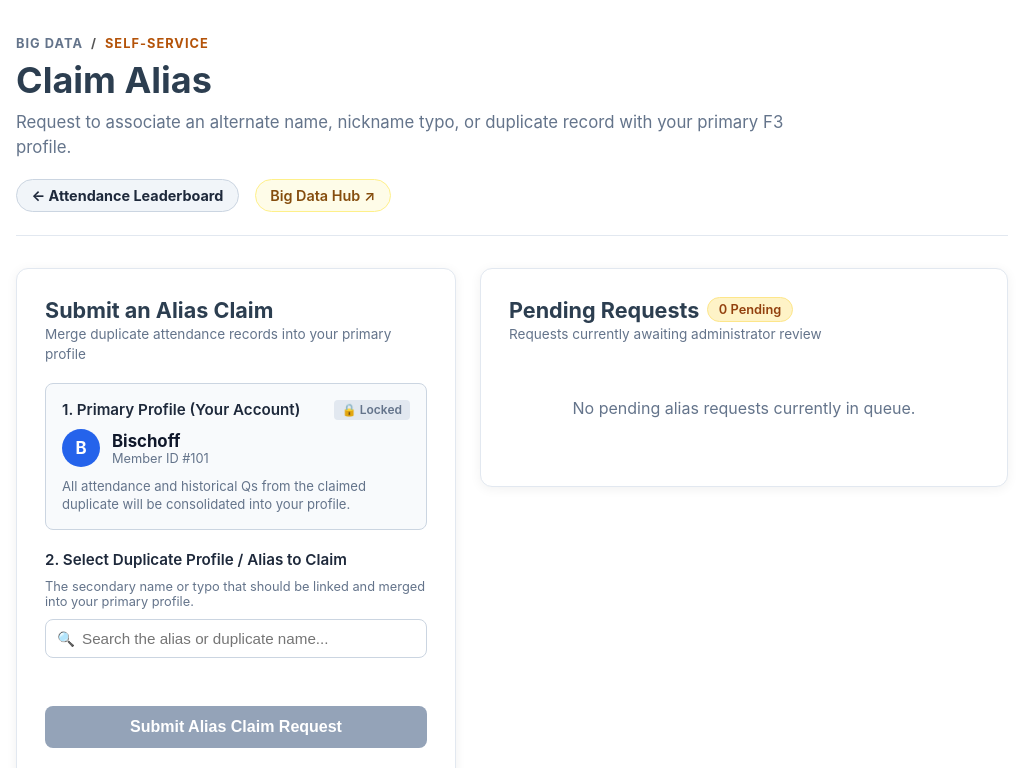
it: ClaimAlias Component › handles duplicate conflict error (409) from API
In the dropdown with placeholder "Search the alias or duplicate name...": (236, 638) [45,619,427,658], type "Bischoff_Old"
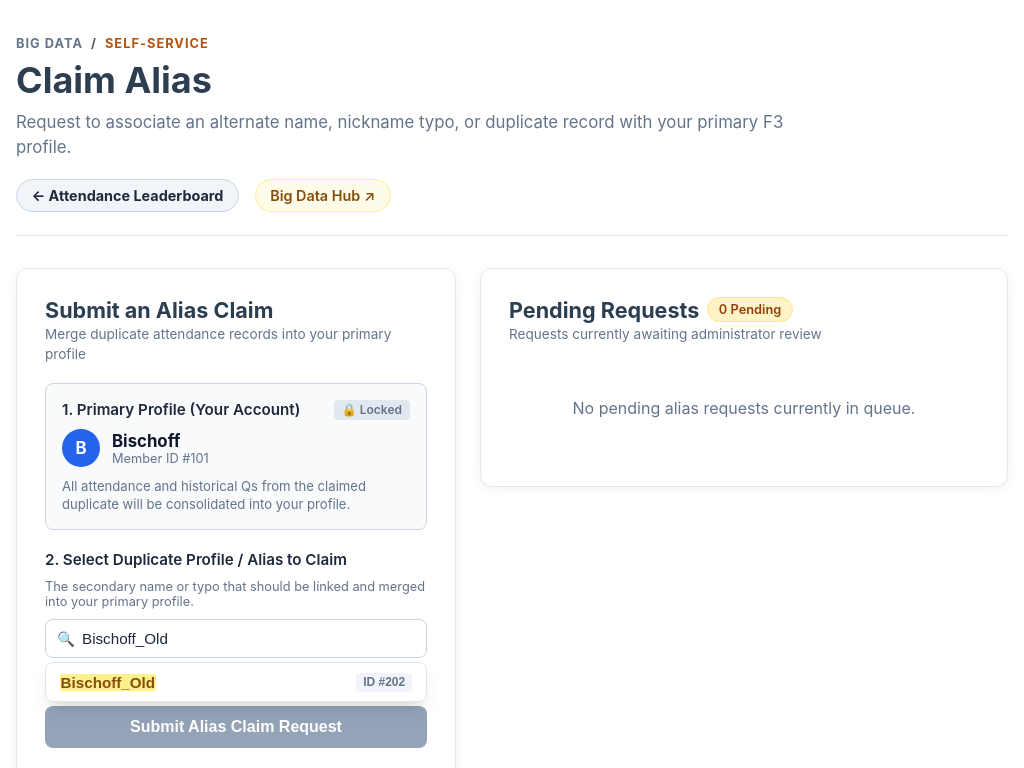
Expected: the option "Bischoff_Old ID #202" is shown
Click the option "Bischoff_Old ID #202": (108, 682) [46,663,426,701]
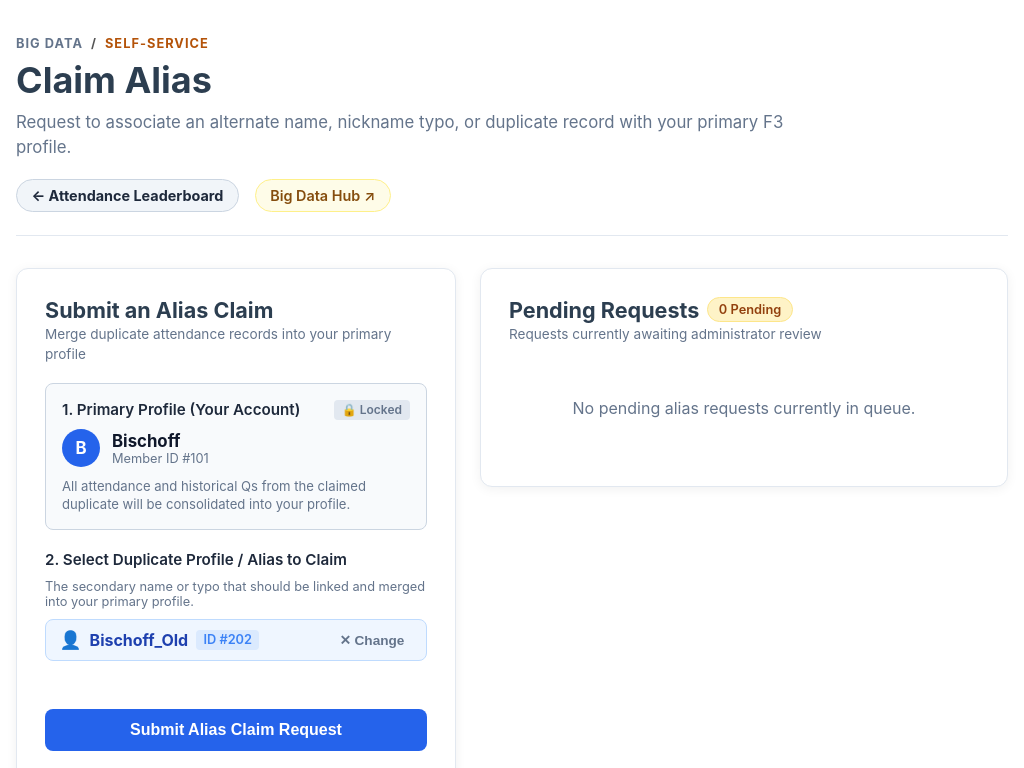
Click the button "Submit Alias Claim Request": (236, 730) [45,709,427,751]
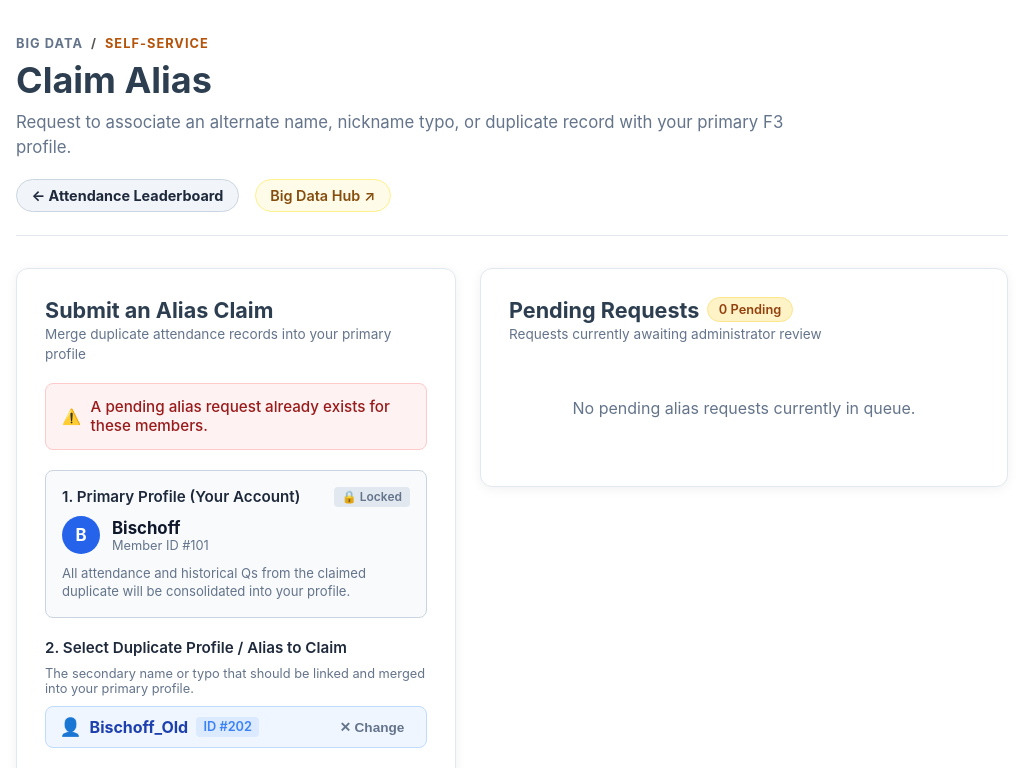
Expected: the text "A pending alias request already exists for these members." is shown, [91,397,410,435]
